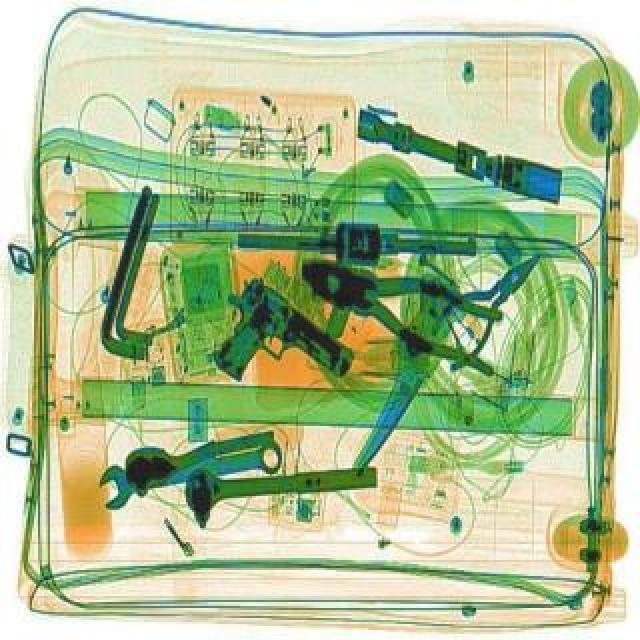gun: (182, 268, 362, 428)
scissors: (92, 432, 284, 508)
wrench: (284, 230, 522, 378), (412, 232, 562, 372)
